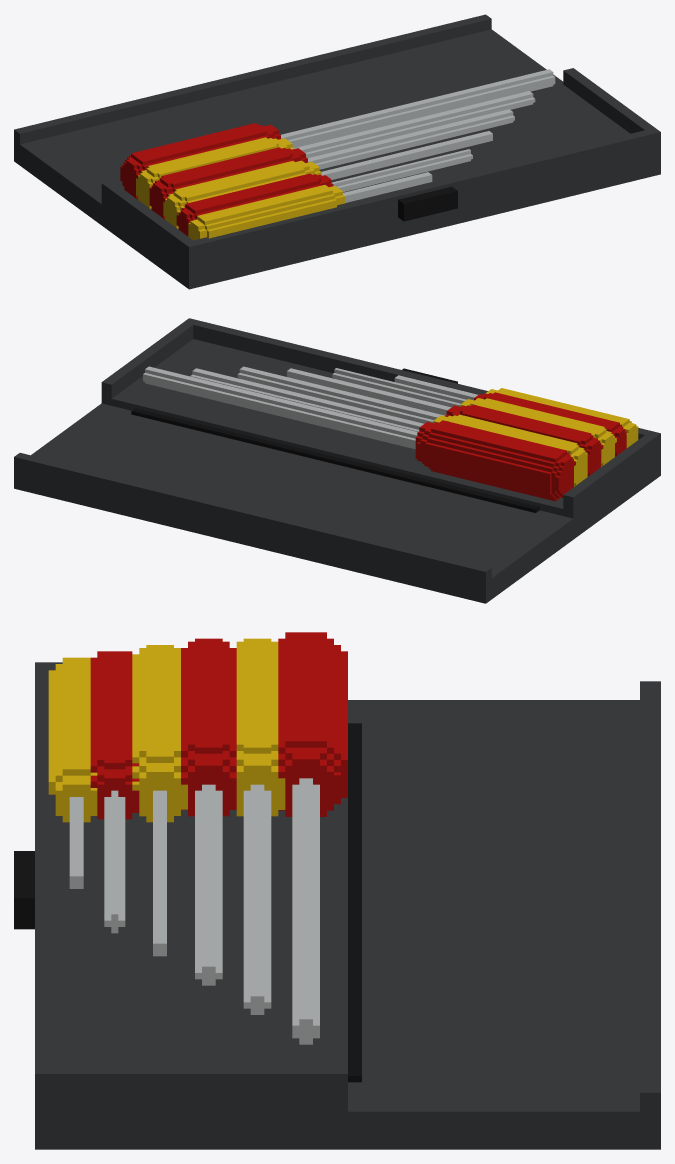
The model's file is screwdriver_set.glb.
The picture shows the model from 3 angles, top to bottom: view 1: azimuth 30°, elevation 25°; view 2: azimuth 150°, elevation 25°; view 3: azimuth 270°, elevation 25°; orthographic projection. The views are drawn at different scales.
Visible parts, largest first — view 1: screwdriver_set:compound; view 2: screwdriver_set:compound; view 3: screwdriver_set:compound.
Part boxes in pixels (x1,y1,x2,y2): screwdriver_set:compound: [14, 14, 660, 289]; screwdriver_set:compound: [14, 318, 660, 603]; screwdriver_set:compound: [14, 632, 660, 1149].
Size of the model in its own units: 0.28 by 0.04 by 0.186.
